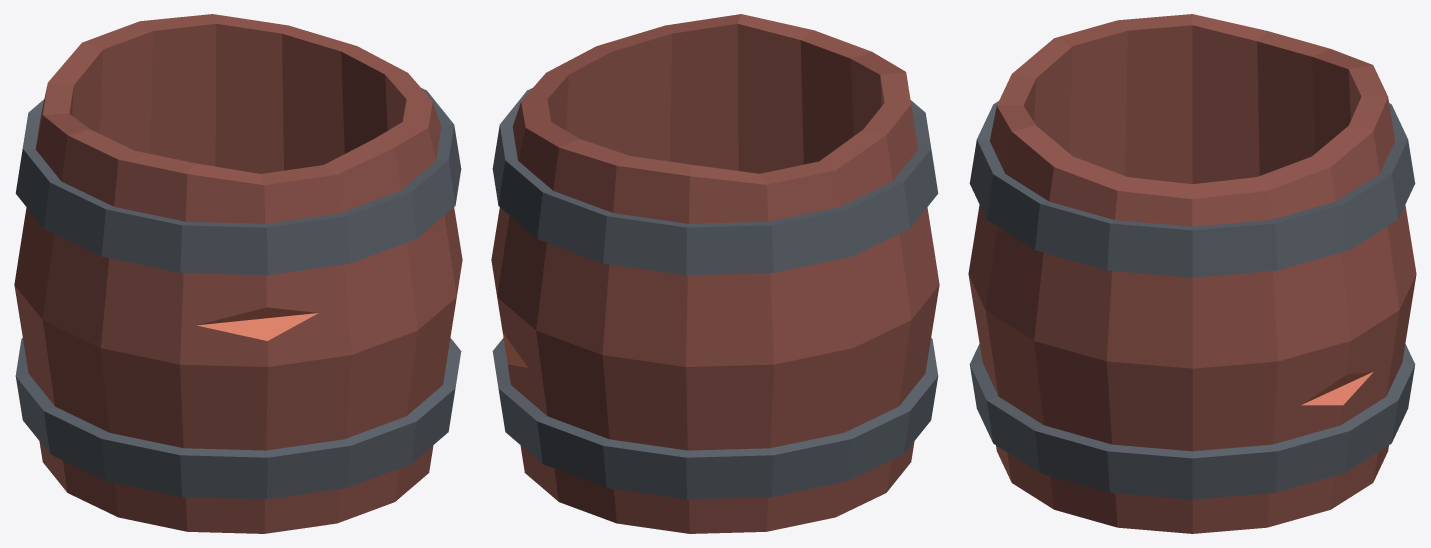
The model's file is Barrel_2_Red.fbx.
3 views of the same model, side by side, from view 1: azimuth 30°, elevation 25°; view 2: azimuth 150°, elevation 25°; view 3: azimuth 270°, elevation 25° (orthographic).
Visible parts, largest first — view 1: Barrel_2_Red_Part_1, Barrel_2_Red_Part_3, Barrel_2_Red_Part_2; view 2: Barrel_2_Red_Part_1, Barrel_2_Red_Part_3; view 3: Barrel_2_Red_Part_1, Barrel_2_Red_Part_3, Barrel_2_Red_Part_2.
Part boxes in pixels (x1,y1,x2,y2): Barrel_2_Red_Part_1: (14, 14, 462, 533); Barrel_2_Red_Part_3: (15, 88, 461, 499); Barrel_2_Red_Part_2: (197, 307, 318, 340); Barrel_2_Red_Part_1: (491, 14, 939, 533); Barrel_2_Red_Part_3: (492, 88, 938, 499); Barrel_2_Red_Part_1: (968, 14, 1416, 533); Barrel_2_Red_Part_3: (969, 101, 1415, 499); Barrel_2_Red_Part_2: (1301, 371, 1373, 405).
Bounding box in the file's own units: 172 × 150 × 172.
